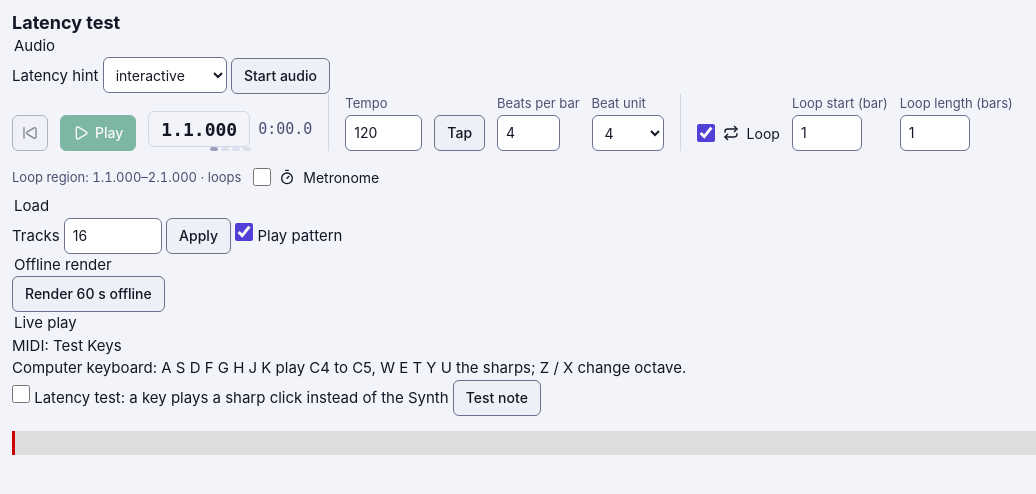
Test: a failure to start is shown
What coordinates should you click on to do the following:
click the button "Start audio"
I would click on:
 (280, 76)
Its box is [231, 58, 330, 94].
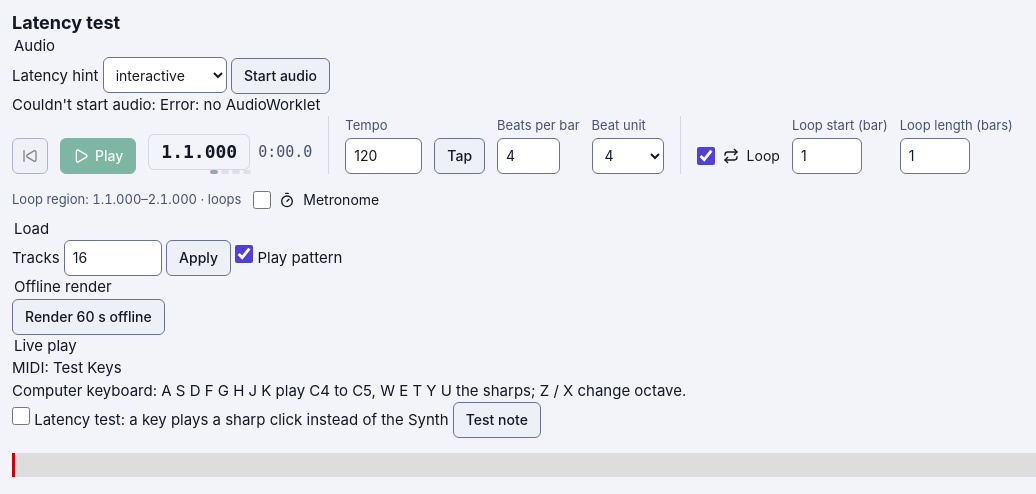
Check: the message shows "no AudioWorklet", box [160, 95, 320, 114]
